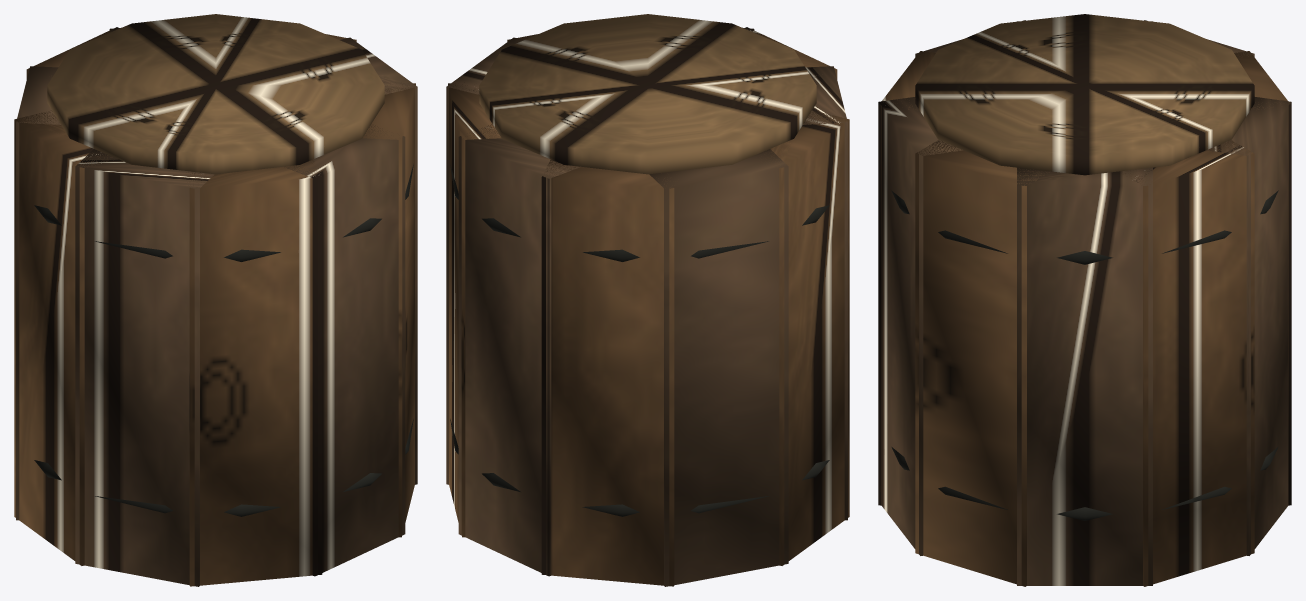
The model's file is barrel.glb.
The picture shows the model from 3 angles, left to right: view 1: azimuth 30°, elevation 25°; view 2: azimuth 150°, elevation 25°; view 3: azimuth 270°, elevation 25°; orthographic projection.
Parts seen in each view (by area): view 1: geometry_0, geometry_1, geometry_3, geometry_2; view 2: geometry_0, geometry_1, geometry_3, geometry_2; view 3: geometry_1, geometry_0, geometry_3, geometry_2.
Boxes of the visible parts, x1,y1,x2,y2 form: geometry_0: (16,27,417,586); geometry_1: (14,27,415,586); geometry_3: (47,14,384,174); geometry_2: (34,164,413,516); geometry_0: (446,27,847,586); geometry_1: (448,27,849,586); geometry_3: (479,14,816,174); geometry_2: (450,164,829,516); geometry_1: (878,21,1291,586); geometry_0: (878,20,1291,585); geometry_3: (915,14,1254,175); geometry_2: (891,190,1278,520).
Bounding box in the file's own units: 0.71 × 0.815 × 0.7304.
Materials: 4 (3 with a texture image).
